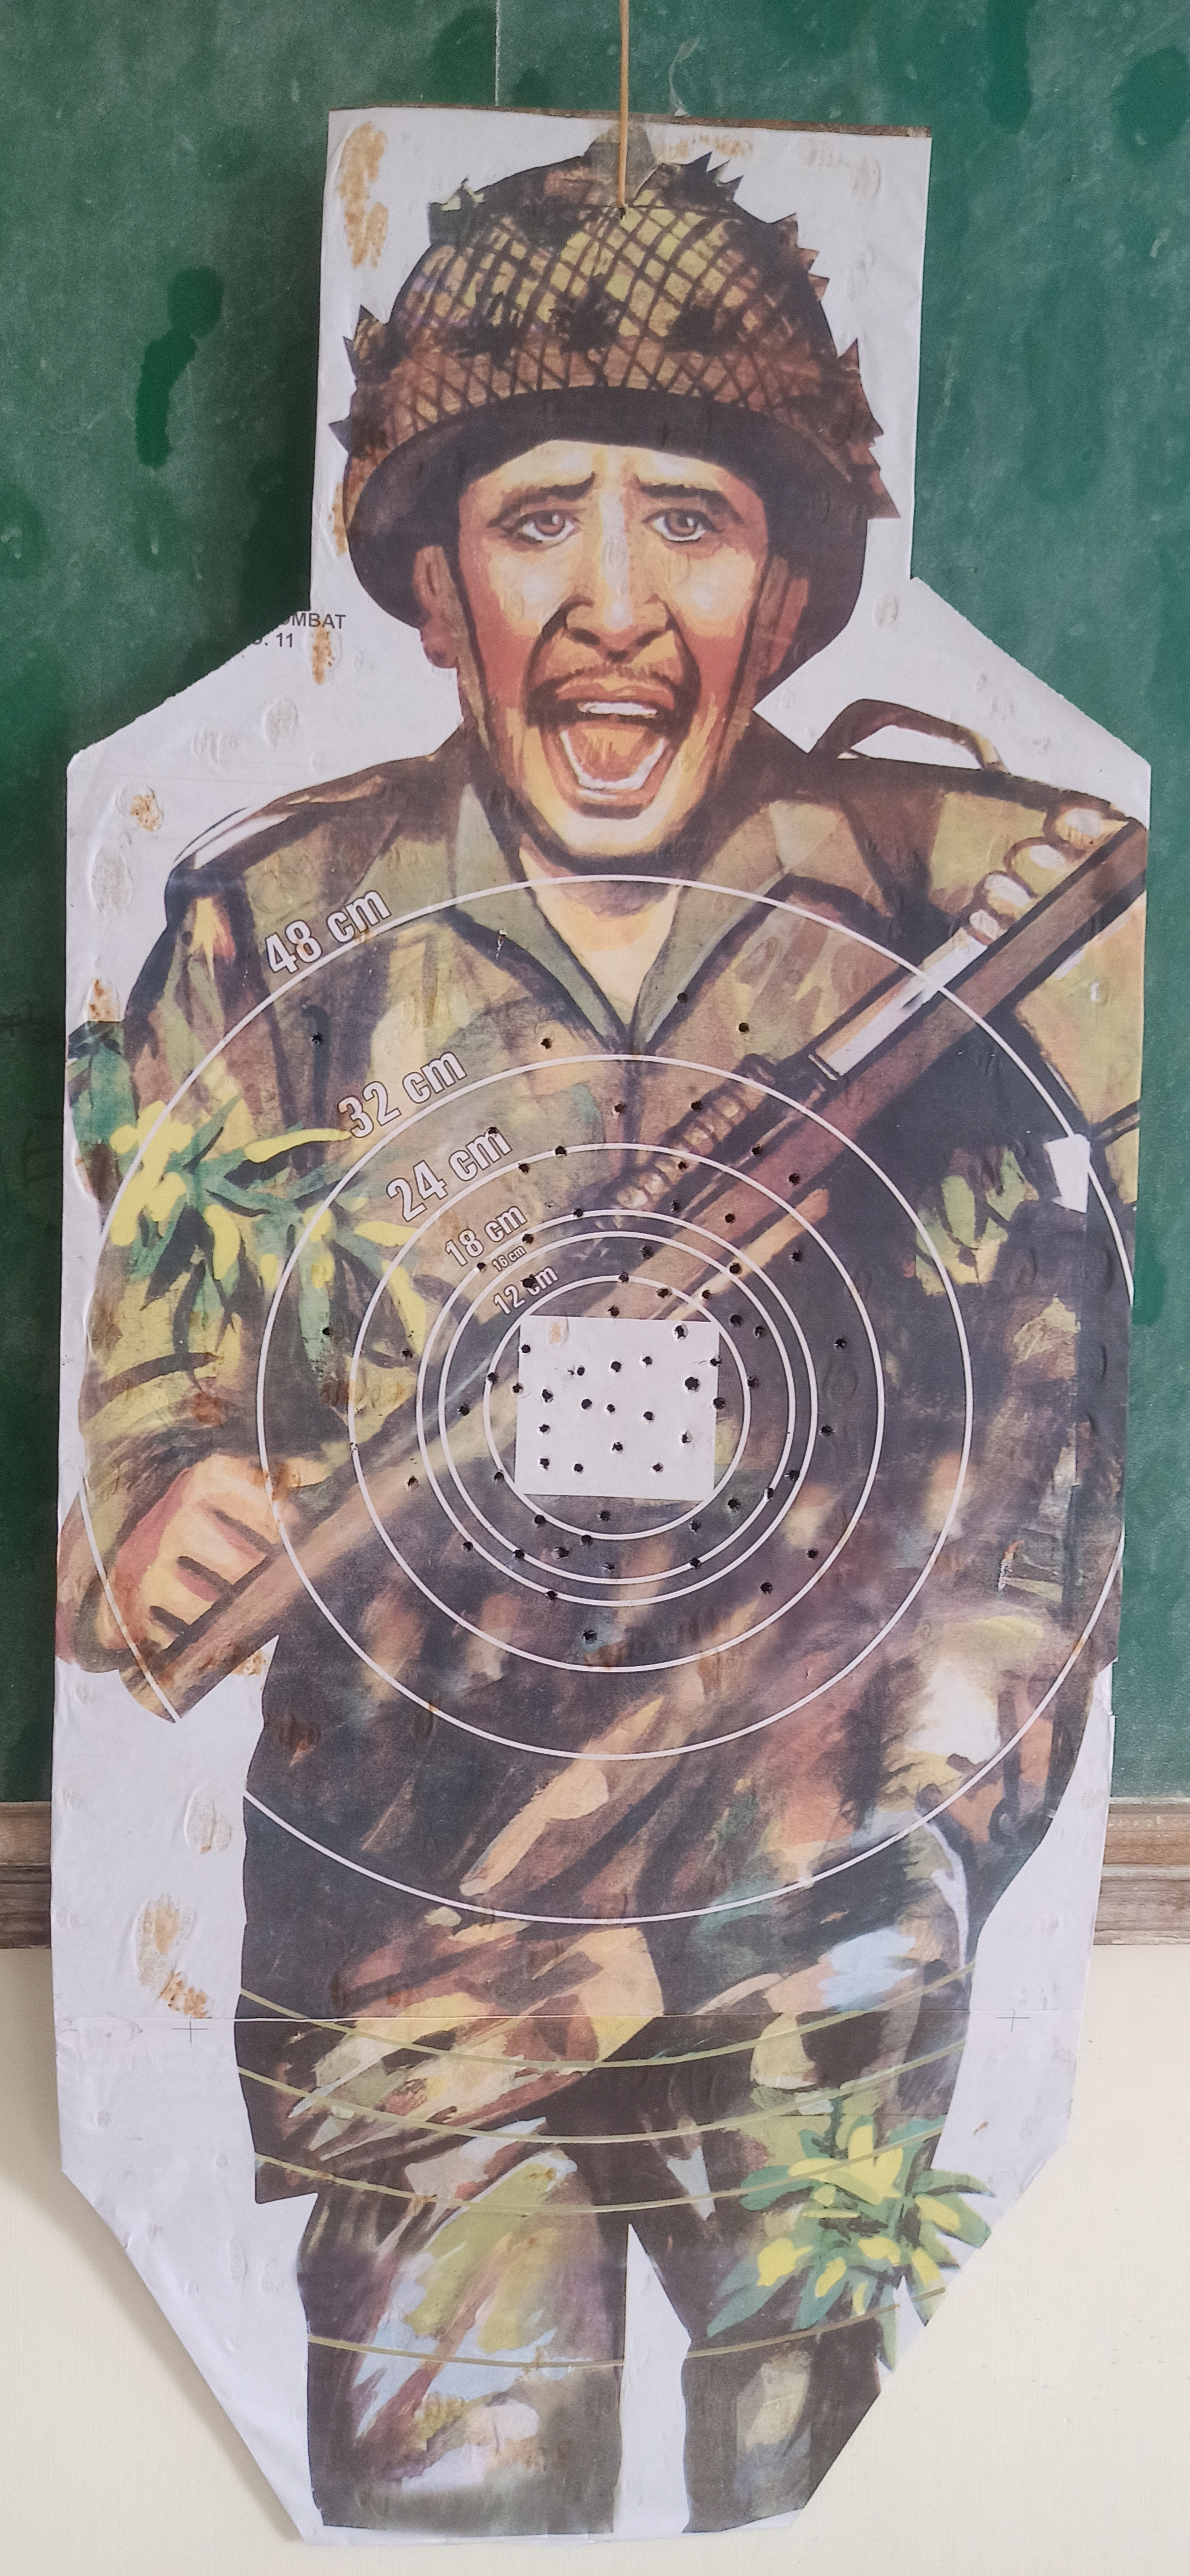bullet hit: (607, 1099, 634, 1120), (306, 1027, 329, 1051), (534, 1030, 557, 1055), (672, 984, 694, 1010), (733, 1017, 754, 1043), (480, 1367, 503, 1390), (761, 1482, 781, 1508), (679, 1372, 702, 1393), (634, 1242, 657, 1263), (549, 1138, 570, 1160), (748, 1142, 768, 1165), (549, 1543, 572, 1562), (654, 1283, 677, 1303), (516, 1336, 536, 1359), (638, 1349, 656, 1373), (758, 1574, 776, 1598), (648, 1459, 667, 1480), (398, 1344, 419, 1364), (513, 1160, 534, 1180), (579, 1626, 600, 1646), (667, 1198, 687, 1219), (784, 1464, 805, 1483), (510, 1544, 529, 1566), (488, 1469, 510, 1488), (575, 1529, 595, 1551), (743, 1373, 764, 1393), (518, 1272, 539, 1291), (725, 1257, 746, 1277), (685, 1096, 708, 1114), (786, 1247, 809, 1265), (603, 1303, 626, 1321), (672, 1321, 689, 1345), (510, 1378, 526, 1403), (607, 1439, 626, 1459), (802, 1544, 822, 1564), (722, 1207, 741, 1227), (832, 1334, 851, 1354), (685, 1516, 705, 1536), (536, 1451, 554, 1472), (676, 1431, 697, 1449), (605, 1357, 626, 1375), (521, 1229, 539, 1250), (817, 1421, 835, 1442), (710, 1393, 728, 1414), (529, 1510, 547, 1531), (616, 1268, 634, 1290), (695, 1288, 717, 1306), (570, 1201, 587, 1224), (316, 1326, 340, 1341), (570, 1460, 588, 1480), (542, 1585, 560, 1605), (575, 1395, 595, 1413), (455, 1400, 473, 1419), (725, 1497, 745, 1515), (602, 1398, 618, 1419), (459, 1538, 475, 1559), (786, 1168, 802, 1189), (485, 1124, 503, 1142), (600, 1559, 620, 1575), (595, 1506, 611, 1526), (539, 1387, 554, 1408), (639, 1410, 656, 1428), (685, 1556, 702, 1574), (572, 1364, 588, 1380), (475, 1257, 490, 1275), (537, 1419, 551, 1439), (708, 1355, 725, 1370), (403, 1477, 419, 1492), (753, 1324, 771, 1337), (674, 1160, 689, 1175)
white box: (513, 1313, 723, 1505)
